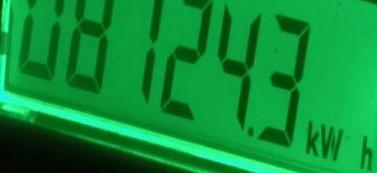.: (303, 119, 377, 173)
0: (246, 126, 257, 137)
1: (17, 0, 65, 81)
2: (141, 0, 164, 103)
3: (162, 0, 213, 121)
4: (258, 14, 312, 148)
5: (215, 4, 262, 129)
9: (64, 0, 117, 94)
